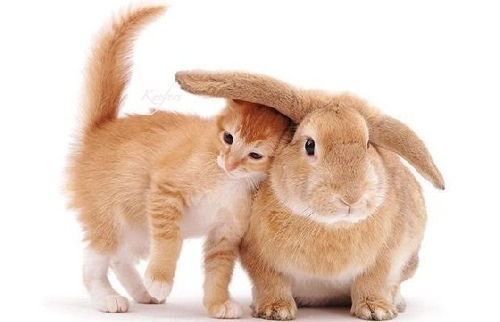cat: (52, 1, 286, 322)
rabbit: (179, 62, 439, 320)
